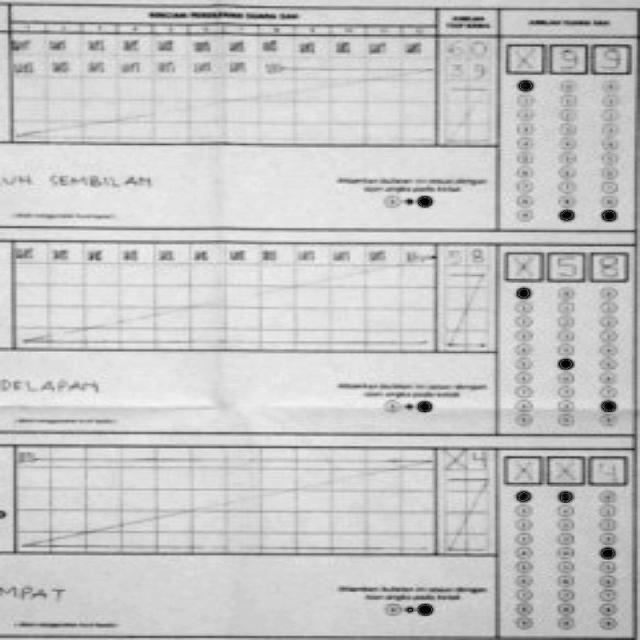Suara: (501, 247, 634, 284), (500, 452, 633, 489), (502, 40, 634, 77)
